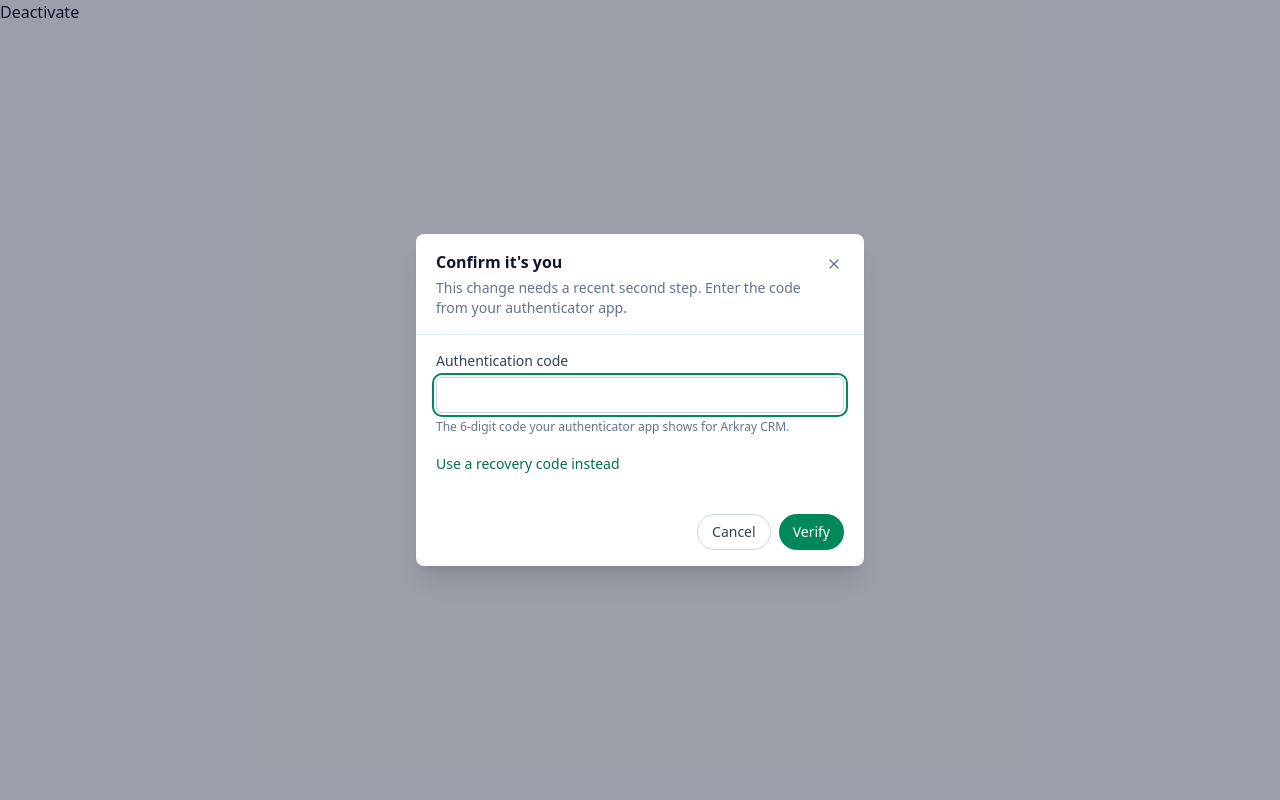
Test: step-up verification (ADR-0033) › a second refusal after verifying is final: no loop, no second prompt
Type "123456" into the field labelled "Authentication code". click: (640, 395)
box: 436,377 -> 844,413
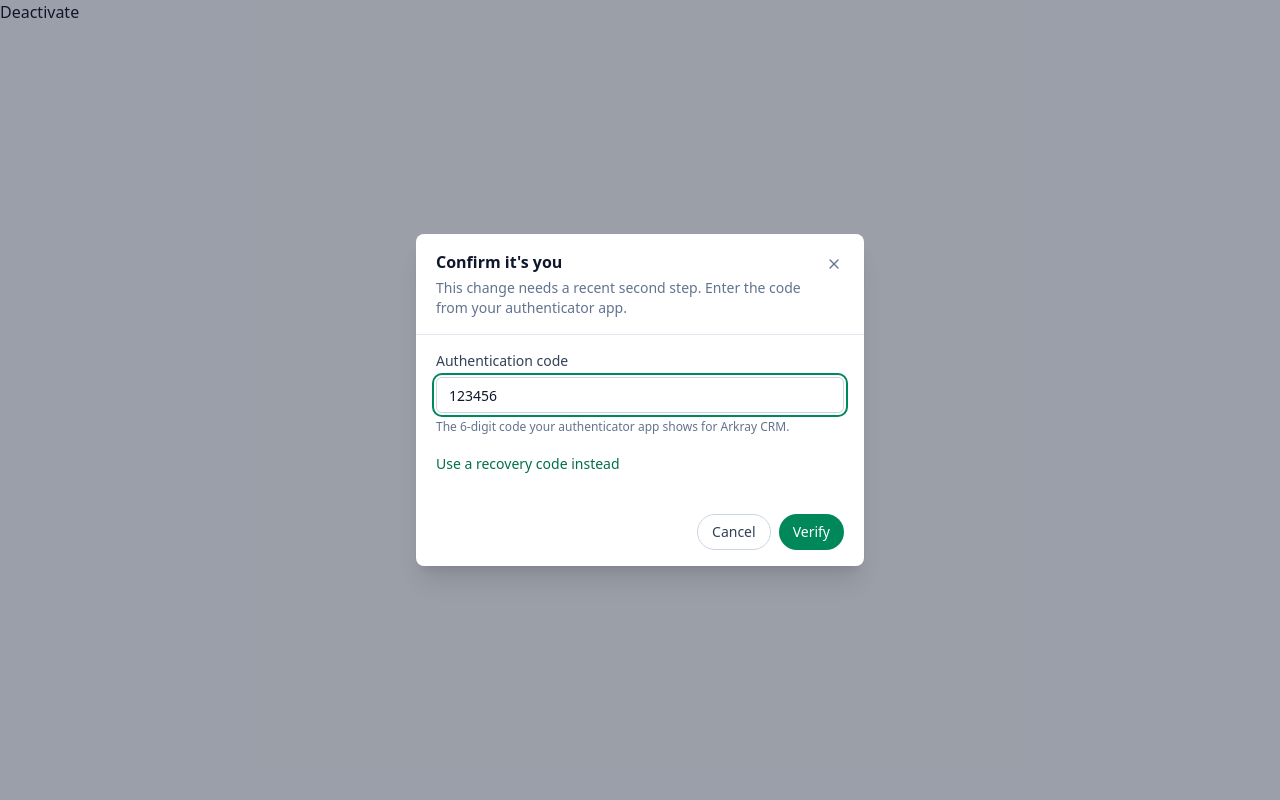
Click the button "Verify". click: (811, 532)
box: 779,514 -> 844,550
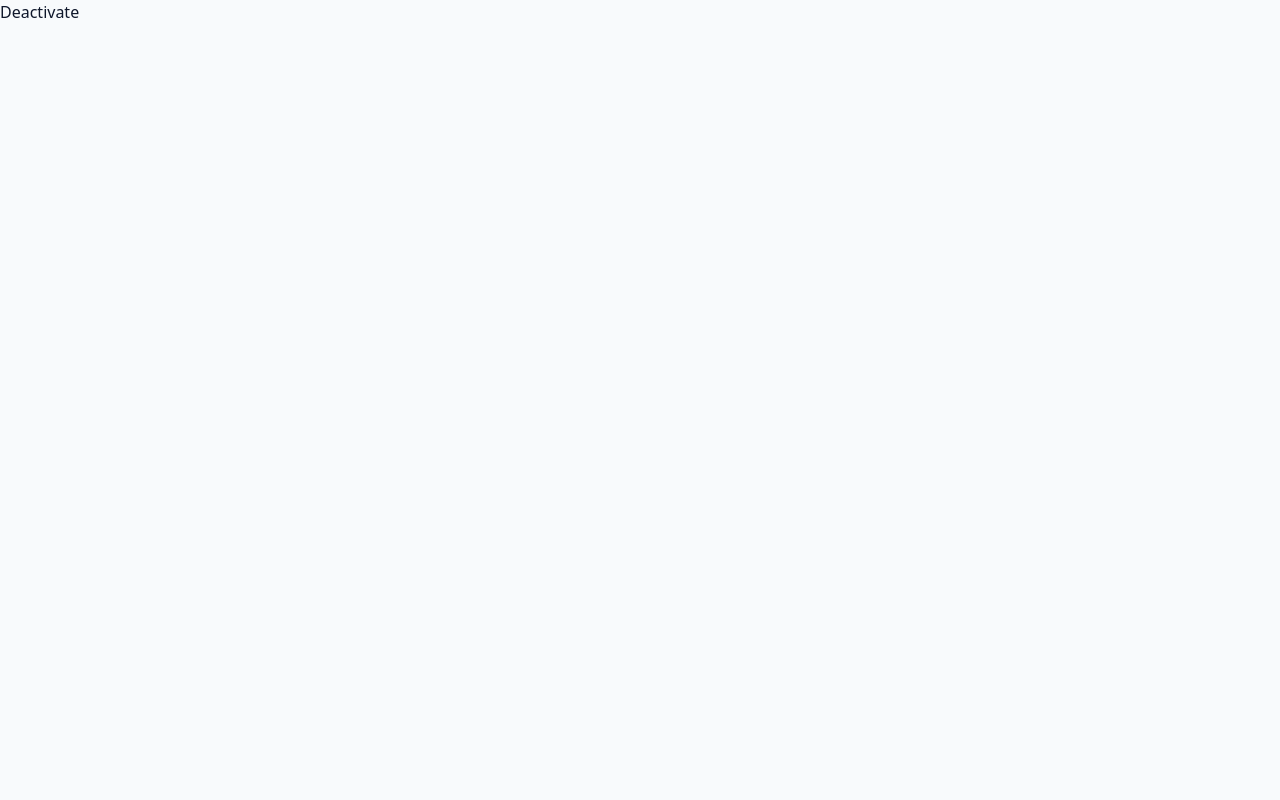
Result: the dialog is gone
